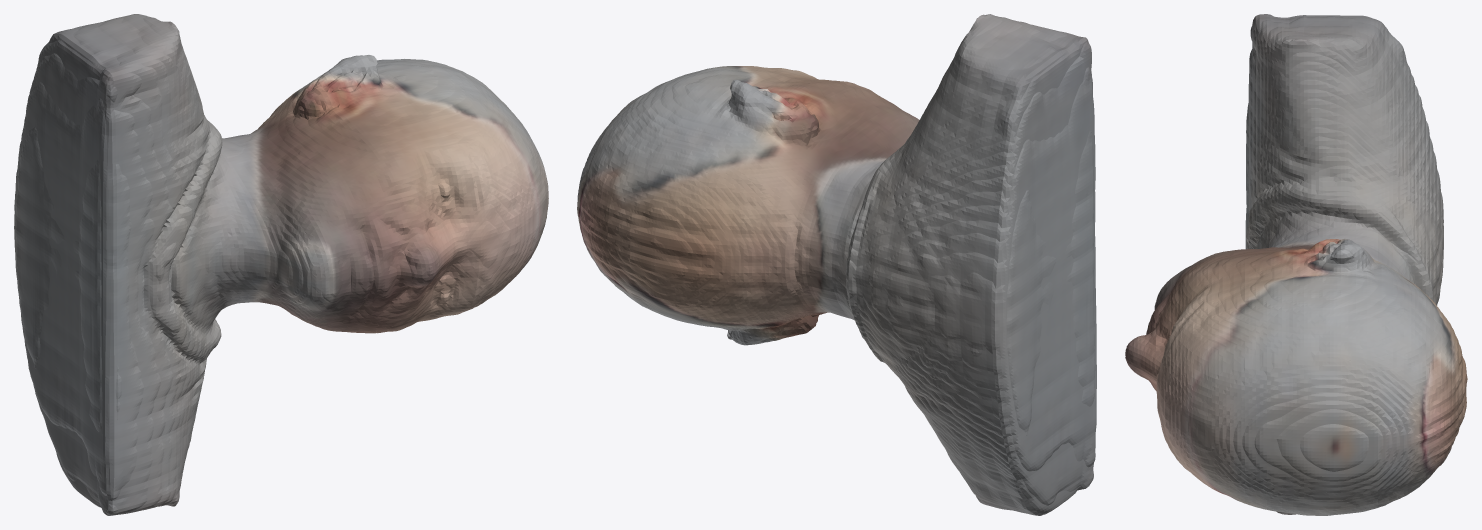
The model's file is temp_raw.glb.
3 renders of one model, left to right at view 1: azimuth 30°, elevation 25°; view 2: azimuth 150°, elevation 25°; view 3: azimuth 270°, elevation 25°, orthographic.
Parts seen in each view (by area): view 1: temp_raw.obj; view 2: temp_raw.obj; view 3: temp_raw.obj.
Part boxes in pixels (x1,y1,x2,y2): temp_raw.obj: (14, 14, 548, 515); temp_raw.obj: (577, 14, 1096, 515); temp_raw.obj: (1125, 14, 1467, 515).
Bounding box in the file's own units: 0.9736 × 0.9775 × 0.6315.
